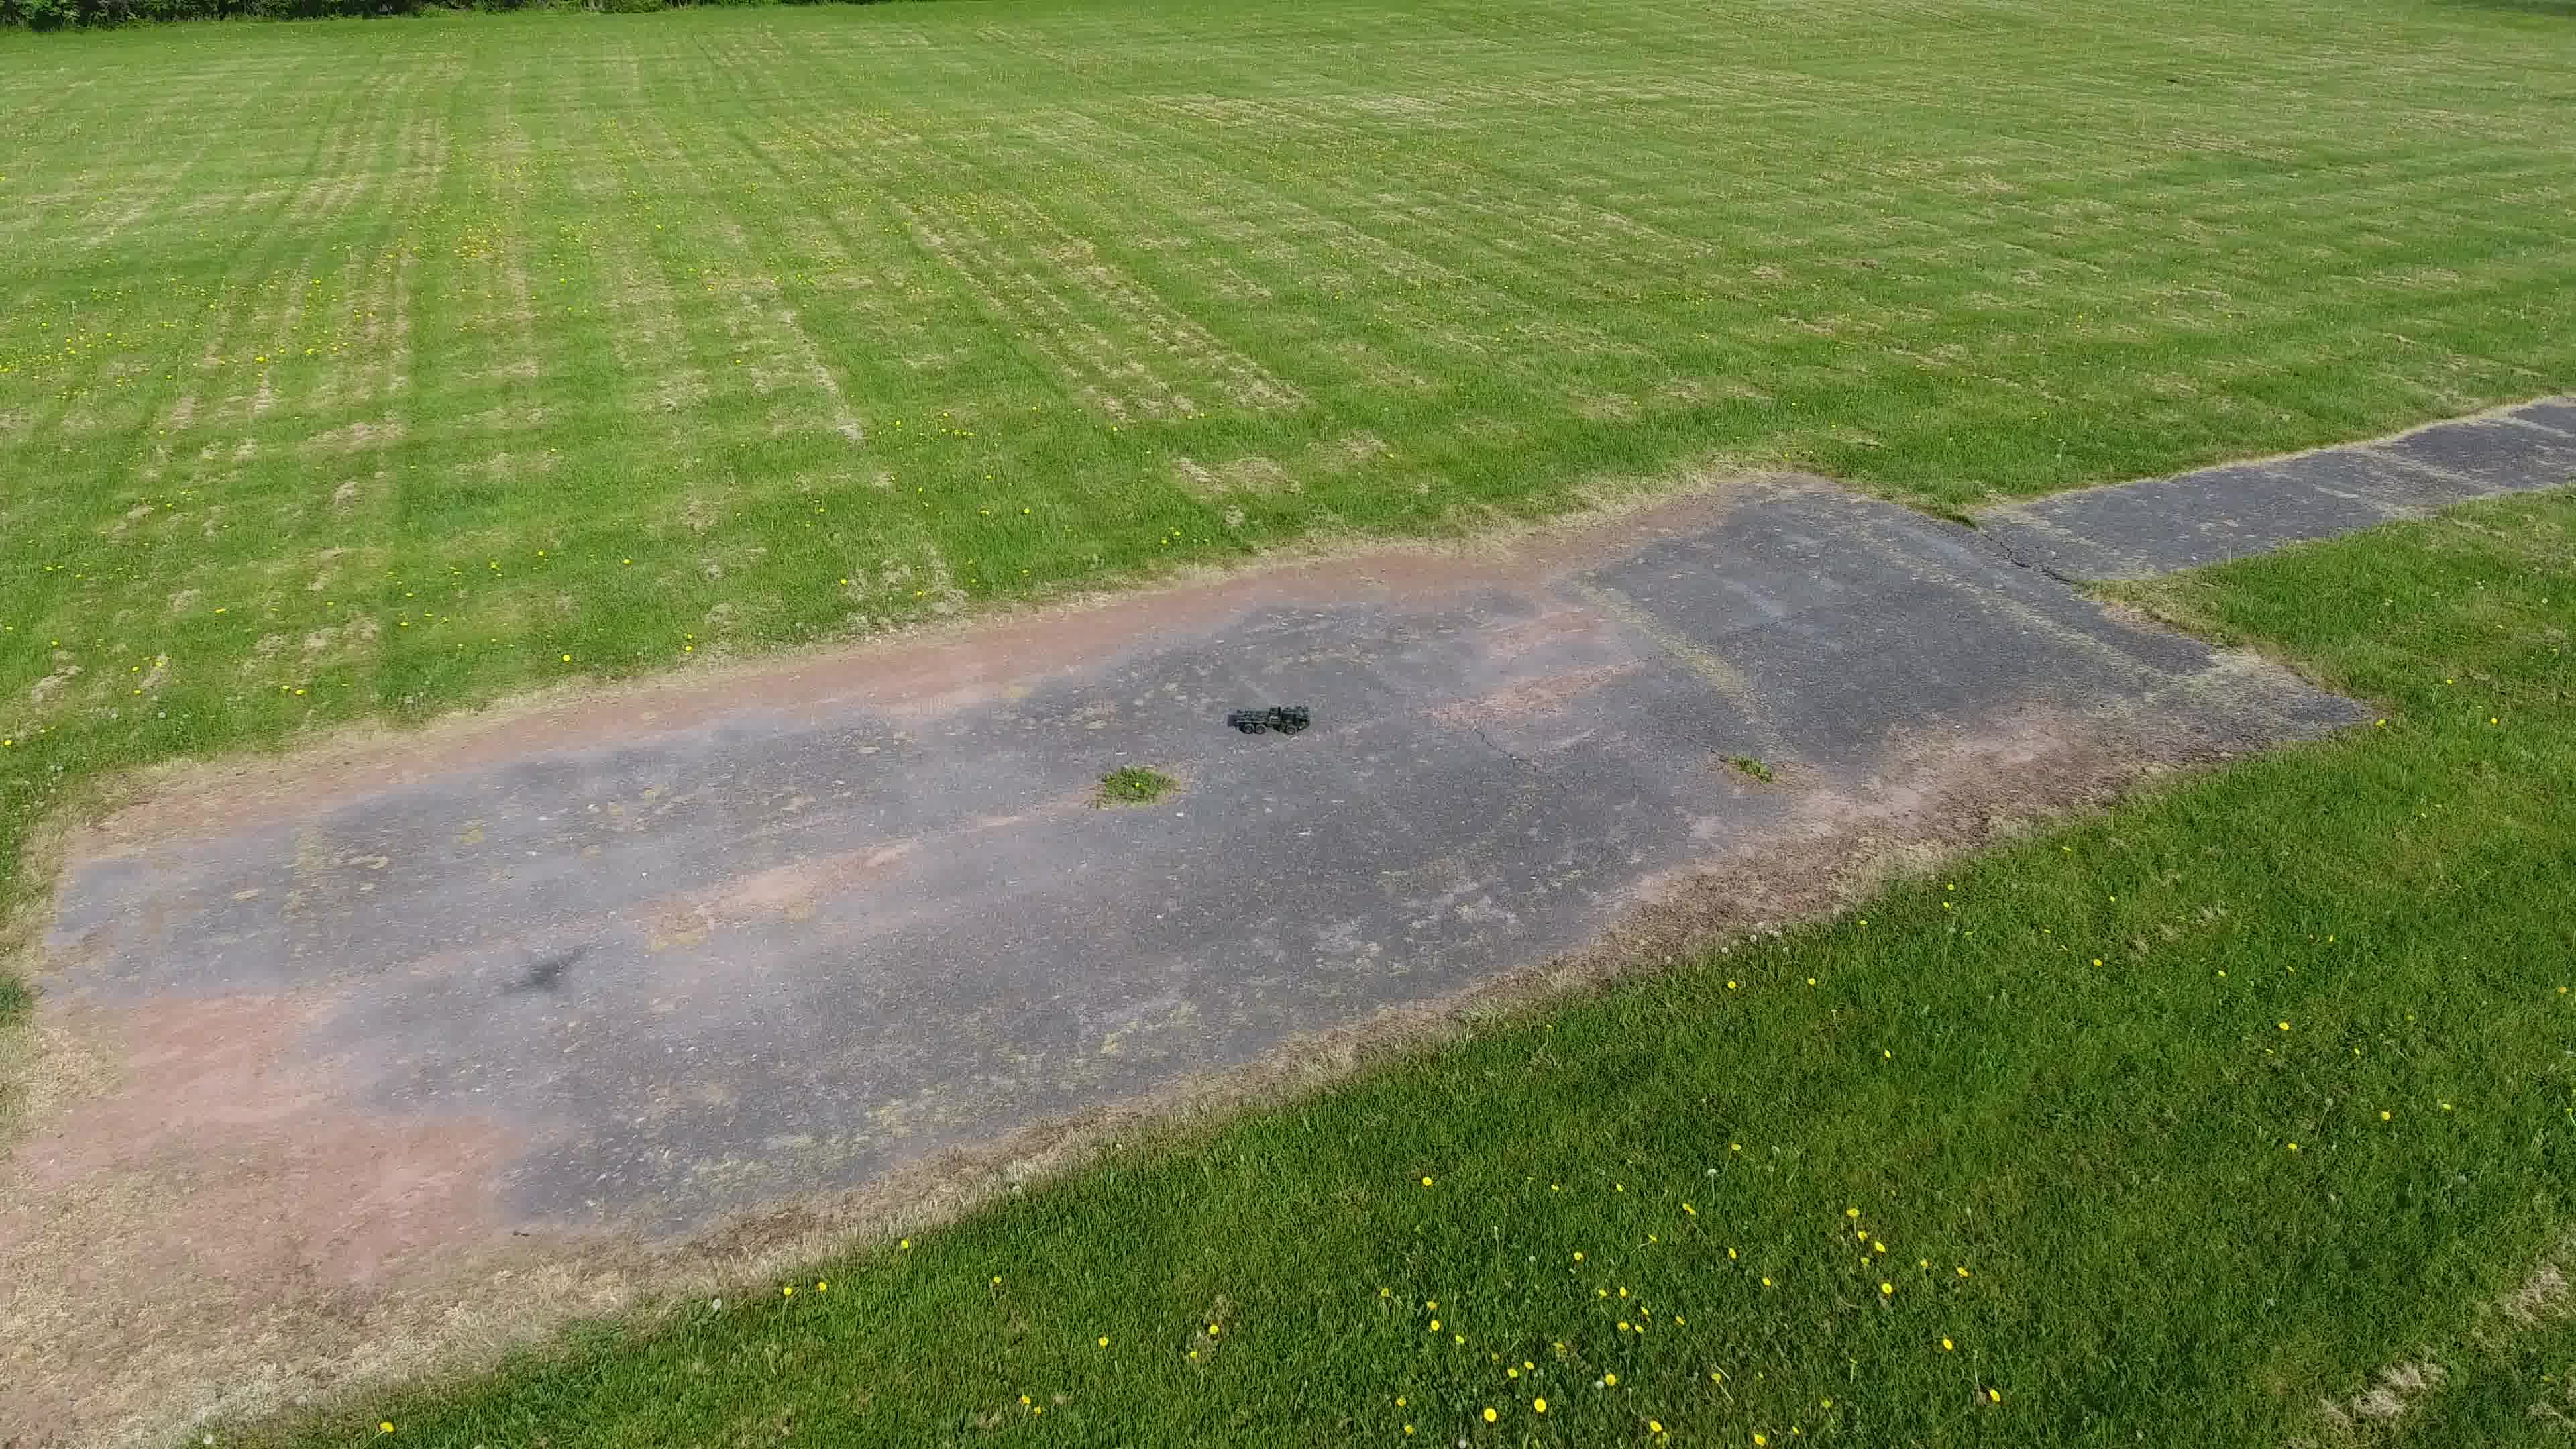transporter9_camo: (1224, 701, 1313, 738)
